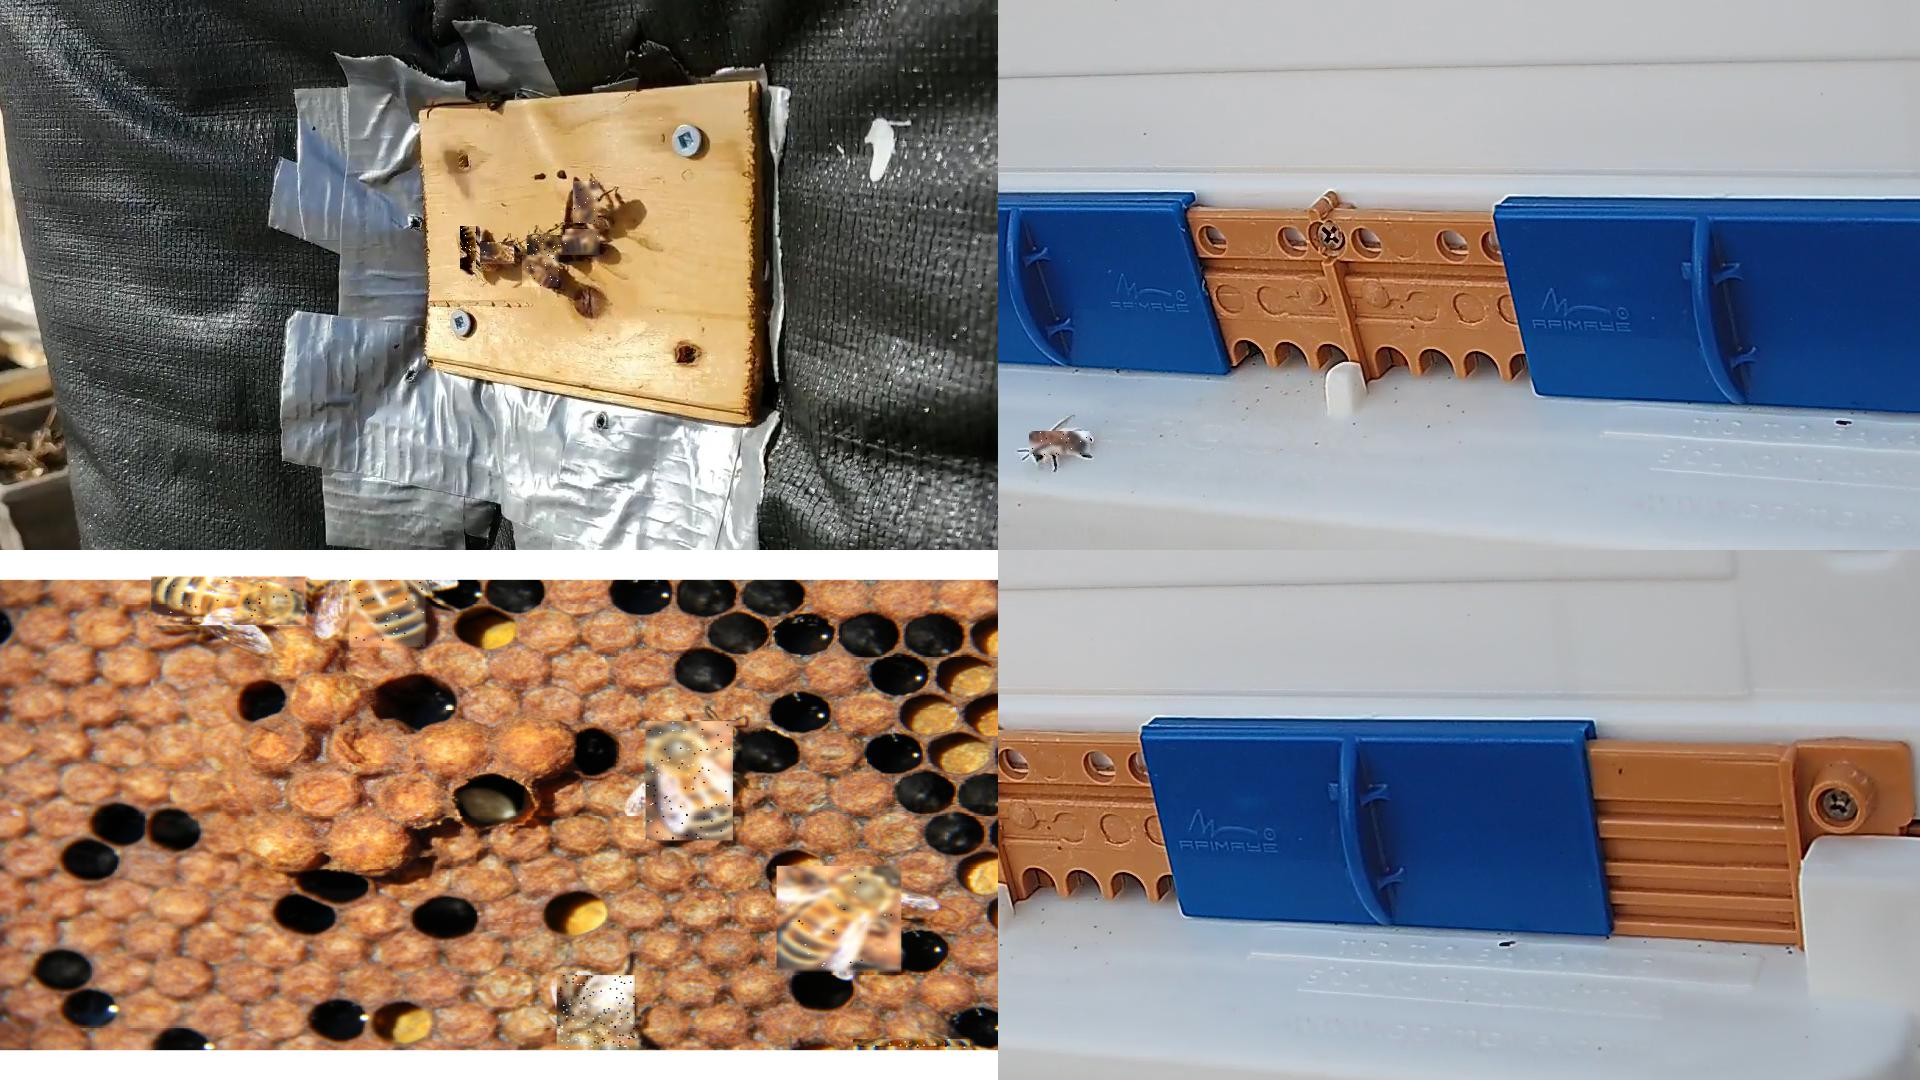bee: (777, 866, 903, 975), (646, 721, 735, 841), (153, 578, 314, 630), (558, 976, 637, 1050), (349, 580, 427, 649), (1030, 431, 1093, 458), (522, 255, 560, 289), (853, 1040, 972, 1051), (574, 181, 601, 224), (566, 229, 603, 256), (462, 227, 481, 276), (481, 243, 518, 268), (527, 236, 567, 256)
